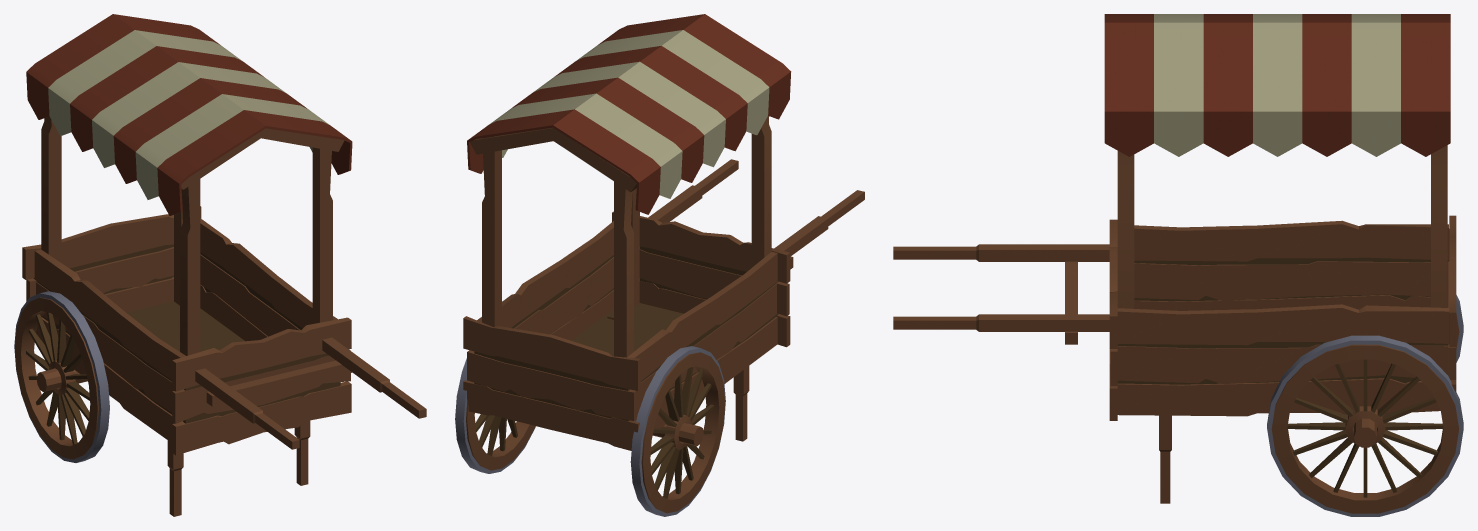
Rendered from Cart.glb.
3 renders of one model, left to right at view 1: azimuth 30°, elevation 25°; view 2: azimuth 150°, elevation 25°; view 3: azimuth 270°, elevation 25°, orthographic. The views are drawn at different scales.
Visible parts, largest first — view 1: Cart; view 2: Cart; view 3: Cart.
Boxes of the visible parts, x1,y1,x2,y2 form: Cart: (14, 14, 426, 516); Cart: (455, 14, 864, 516); Cart: (893, 14, 1463, 516).
Size of the model in its own units: 0.462 by 0.7961 by 0.9274.
1 material, 1 textured.
